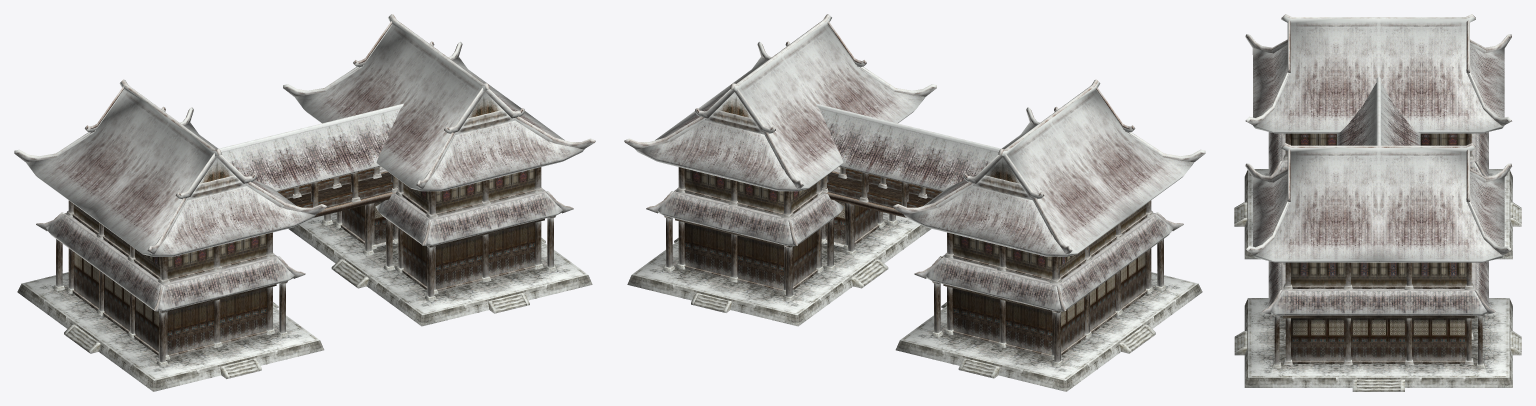
Rendered from snow-009-hotel.fbx.
The picture shows the model from 3 angles, left to right: view 1: azimuth 30°, elevation 25°; view 2: azimuth 150°, elevation 25°; view 3: azimuth 270°, elevation 25°; orthographic projection.
Parts seen in each view (by area): view 1: snow-009-hotel01, snow-009-hotel02, snow-009-hotel03; view 2: snow-009-hotel01, snow-009-hotel02, snow-009-hotel03; view 3: snow-009-hotel01, snow-009-hotel02, snow-009-hotel03.
Boxes of the visible parts, <box> form: snow-009-hotel01: <box>14,14,595,256</box>; snow-009-hotel02: <box>36,103,573,354</box>; snow-009-hotel03: <box>17,167,592,391</box>; snow-009-hotel01: <box>624,14,1205,256</box>; snow-009-hotel02: <box>646,103,1183,354</box>; snow-009-hotel03: <box>627,167,1202,391</box>; snow-009-hotel01: <box>1245,14,1511,262</box>; snow-009-hotel02: <box>1261,77,1495,360</box>; snow-009-hotel03: <box>1234,133,1521,391</box>.
Size of the model in its own units: 35.89 by 15.6 by 19.9.
